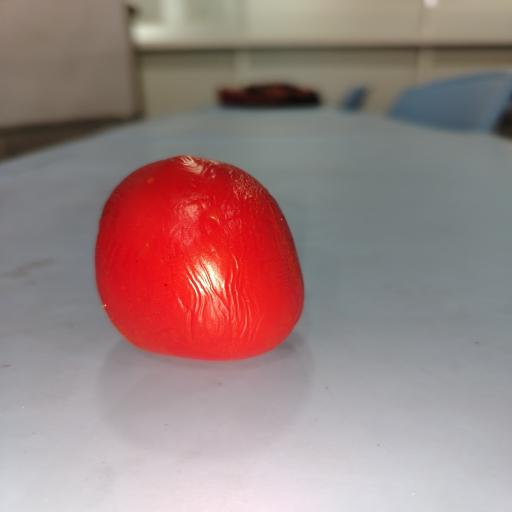spoiled: (95, 156, 304, 360)
